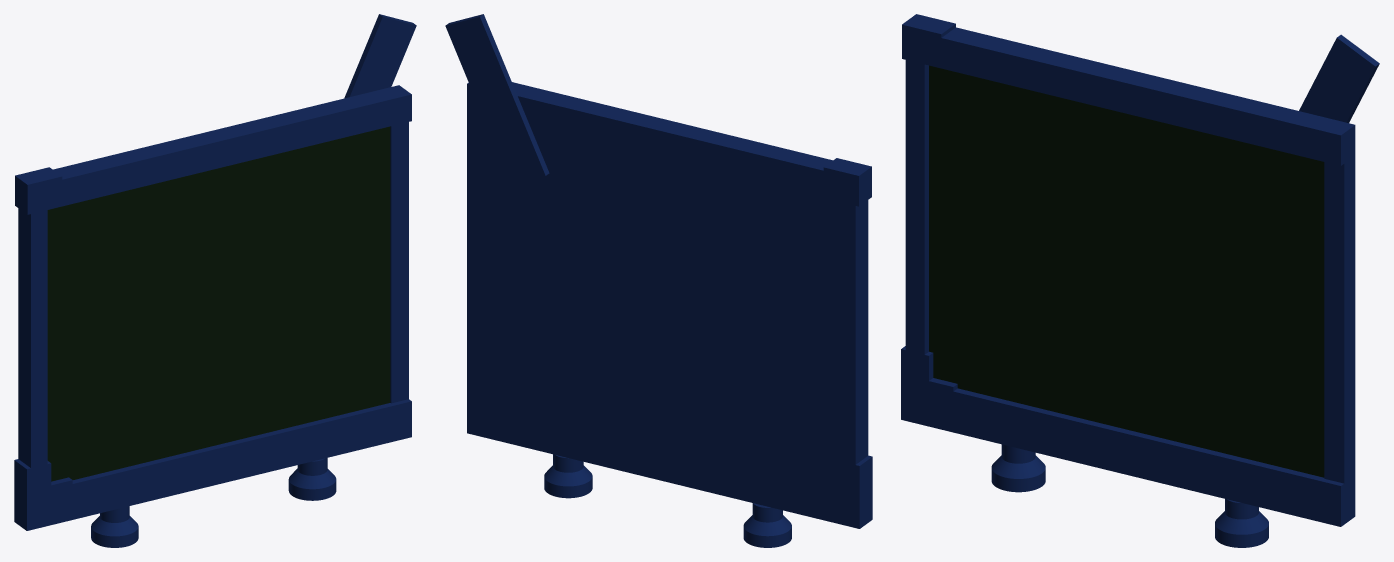
File: Mesh_GreenGym_Base_Speed.FBX
3 views of the same model, side by side, from view 1: azimuth 30°, elevation 25°; view 2: azimuth 150°, elevation 25°; view 3: azimuth 330°, elevation 25° (orthographic). The views are drawn at different scales.
Parts seen in each view (by area): view 1: Mesh_GreenGym_Base_Speed; view 2: Mesh_GreenGym_Base_Speed; view 3: Mesh_GreenGym_Base_Speed.
Boxes of the visible parts, x1,y1,x2,y2 form: Mesh_GreenGym_Base_Speed: (14, 14, 416, 547); Mesh_GreenGym_Base_Speed: (445, 14, 872, 547); Mesh_GreenGym_Base_Speed: (901, 14, 1379, 547).
Size of what is drawn, in the model's own units: 186 by 19.87 by 199.
